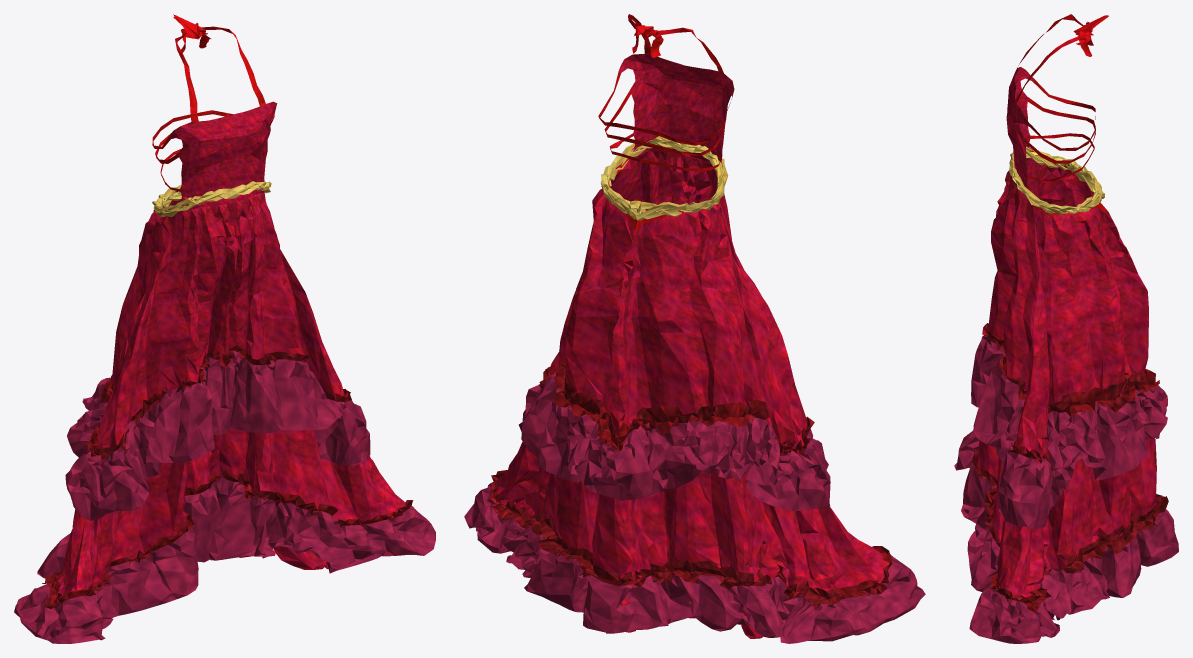
Rendered from mhw_elvs_goddess_dress8.glb.
3 renders of one model, left to right at view 1: azimuth 30°, elevation 25°; view 2: azimuth 150°, elevation 25°; view 3: azimuth 270°, elevation 25°, orthographic. The views are drawn at different scales.
Visible parts, largest first — view 1: mhw_elvs_goddess_dress8; view 2: mhw_elvs_goddess_dress8; view 3: mhw_elvs_goddess_dress8.
Boxes of the visible parts, bbox=[...] form: mhw_elvs_goddess_dress8: bbox=[14, 14, 435, 643]; mhw_elvs_goddess_dress8: bbox=[464, 14, 925, 643]; mhw_elvs_goddess_dress8: bbox=[954, 14, 1178, 643].
Size of the model in its own units: 1.28 by 1.65 by 0.6228.
1 material, 1 textured.
